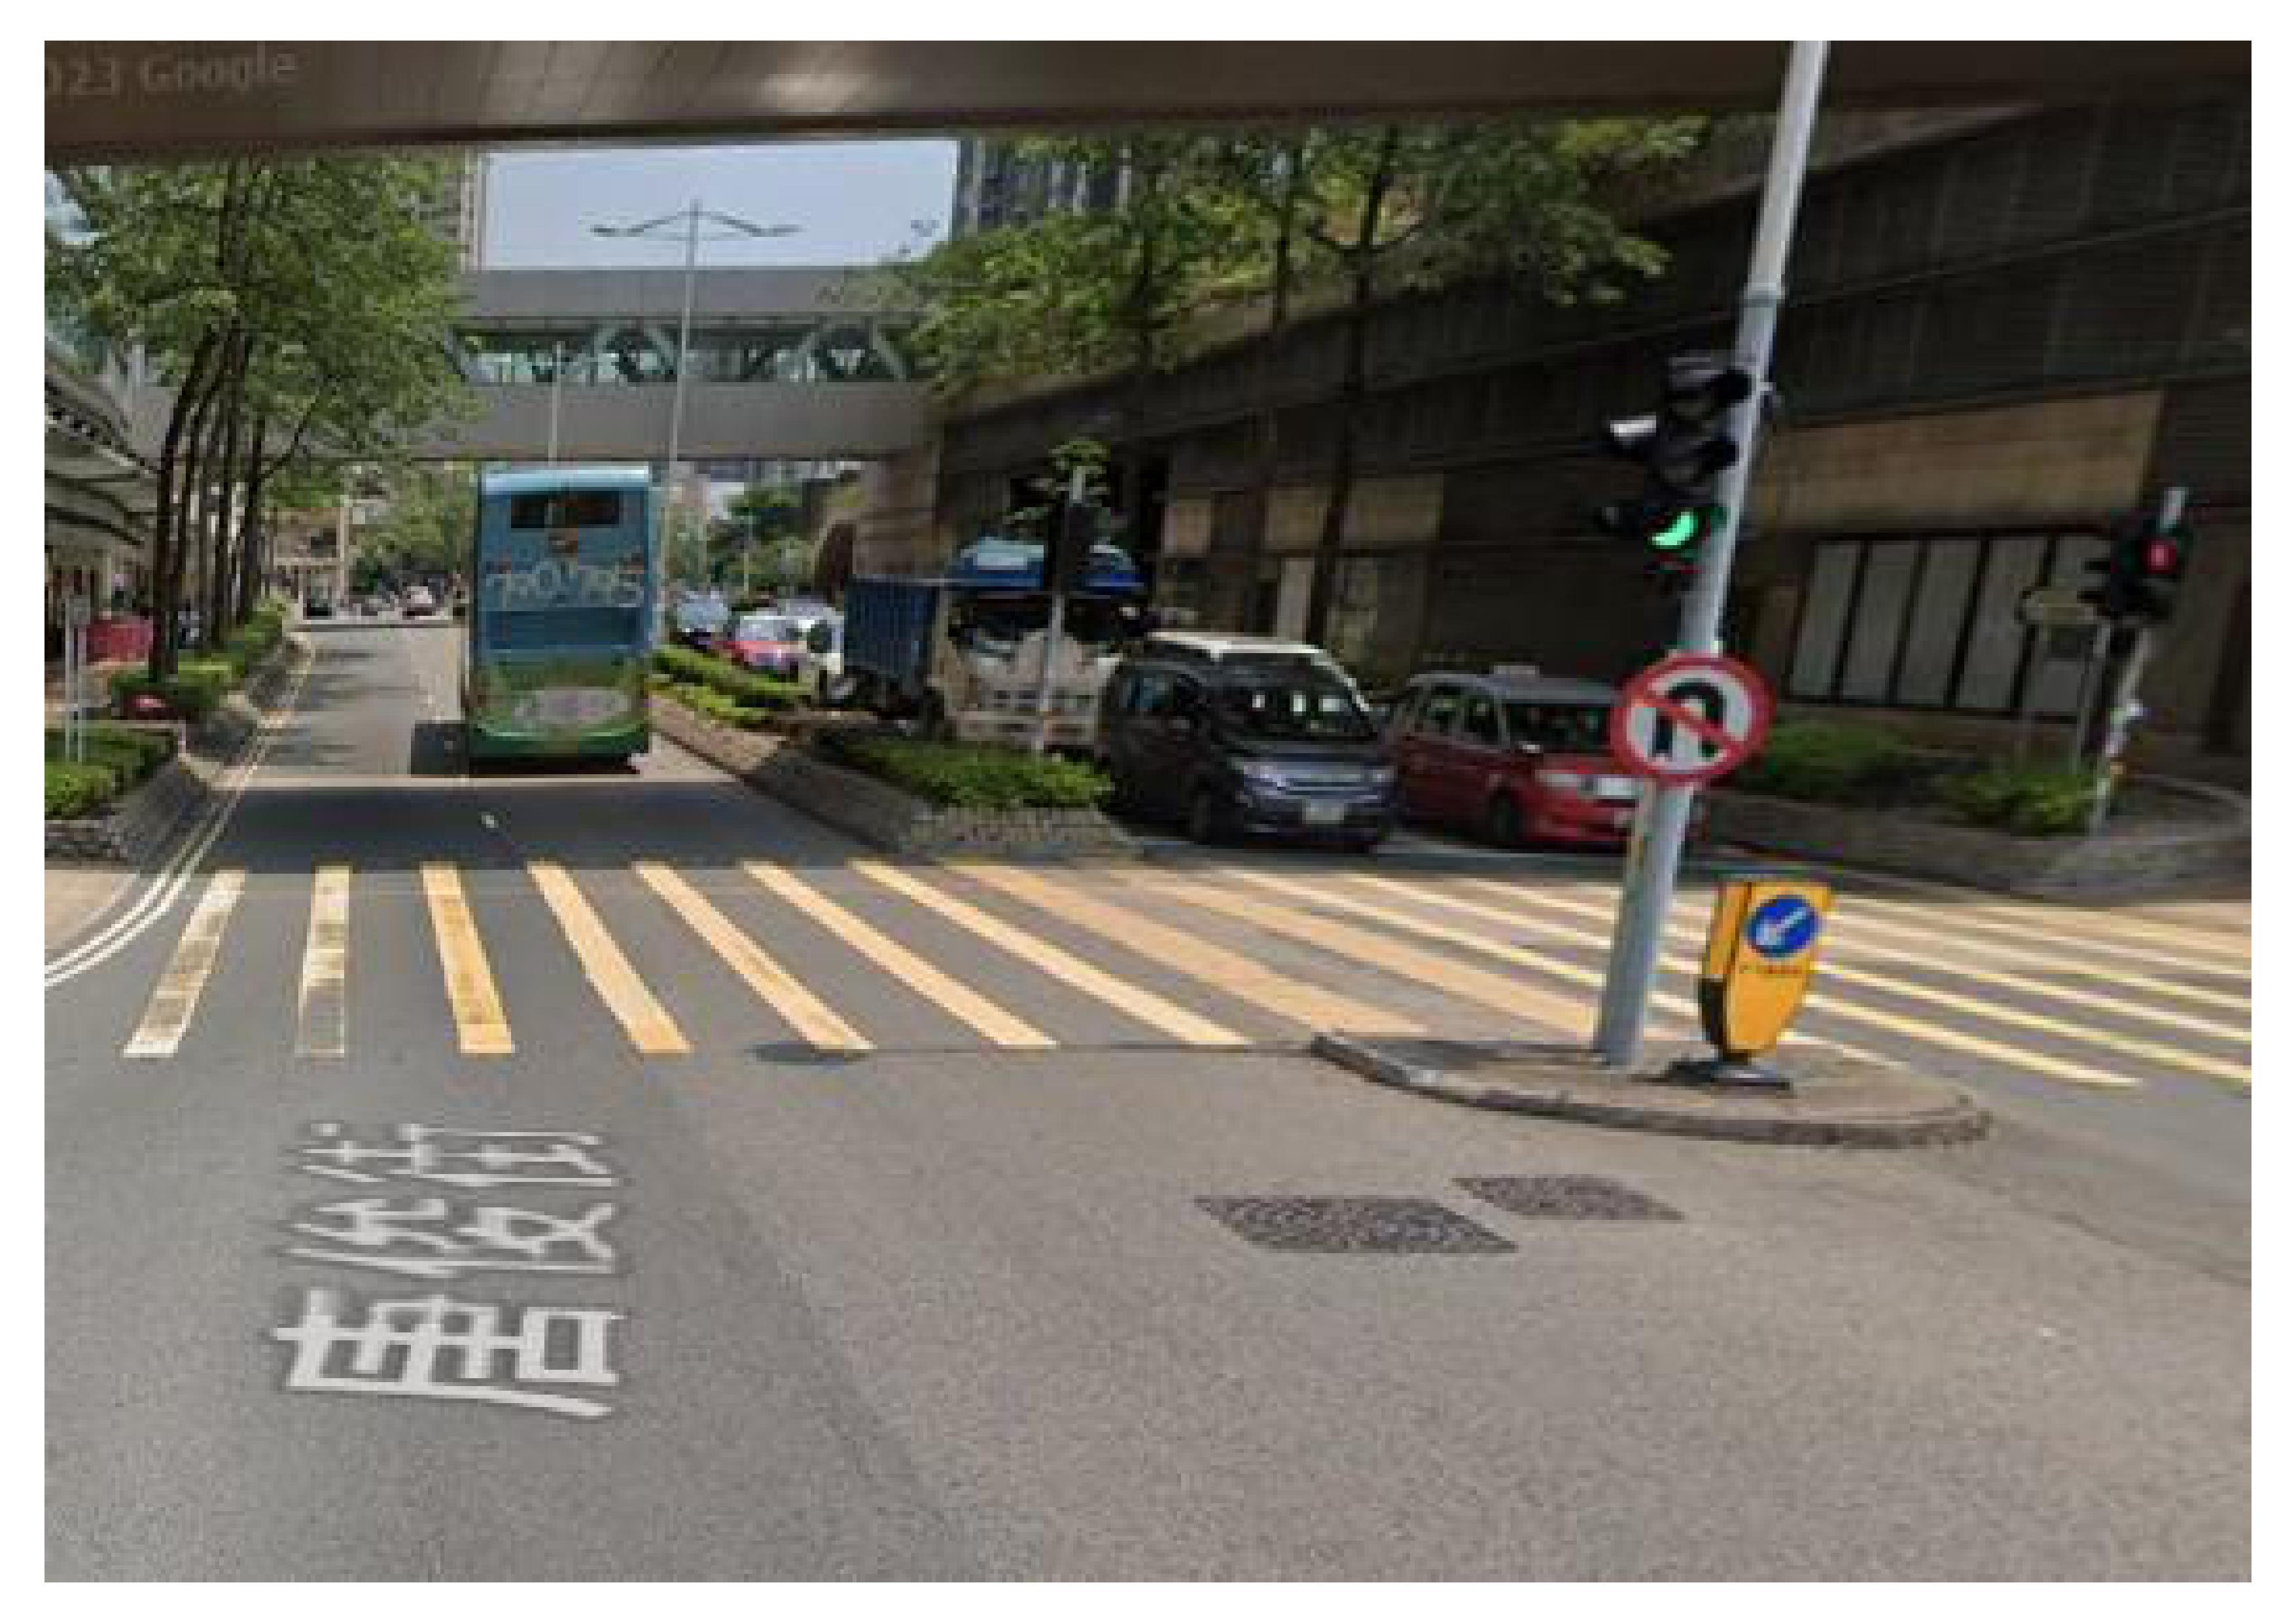No Uturn: (1611, 652, 1775, 789)
